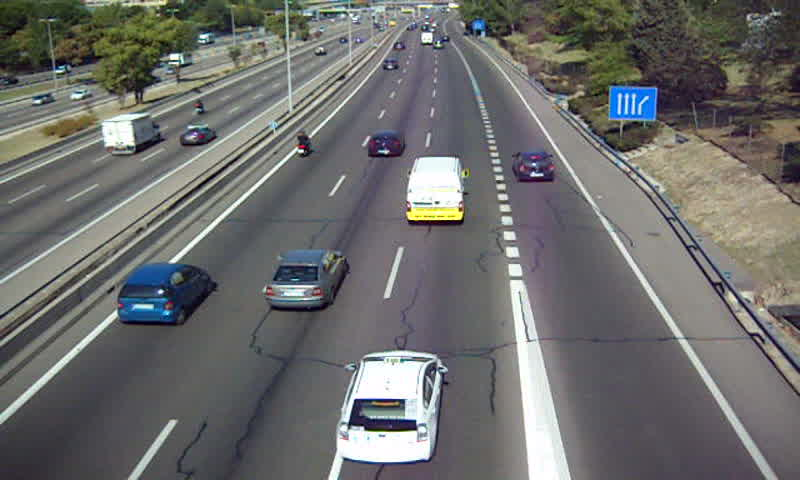car: (338, 351, 444, 463), (116, 264, 211, 323), (263, 248, 348, 309), (512, 149, 557, 181), (367, 130, 407, 157), (380, 59, 400, 73)
motorcycle: (295, 129, 312, 160)
van: (405, 157, 464, 223)
